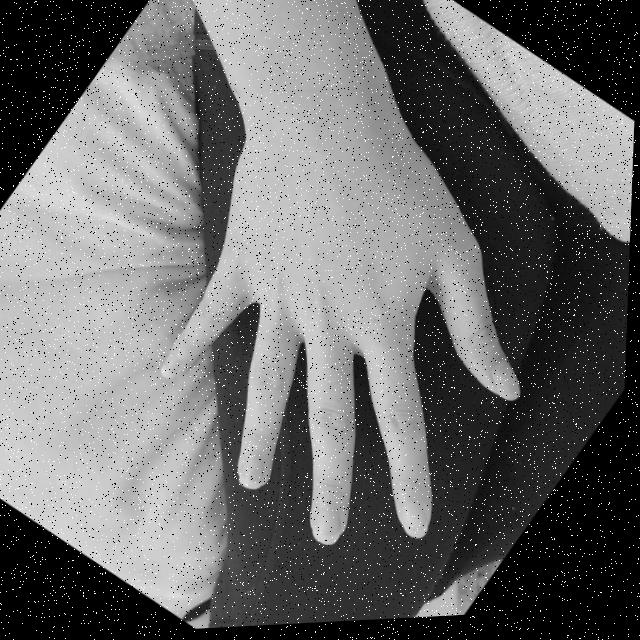hand: (64, 63, 616, 613)
